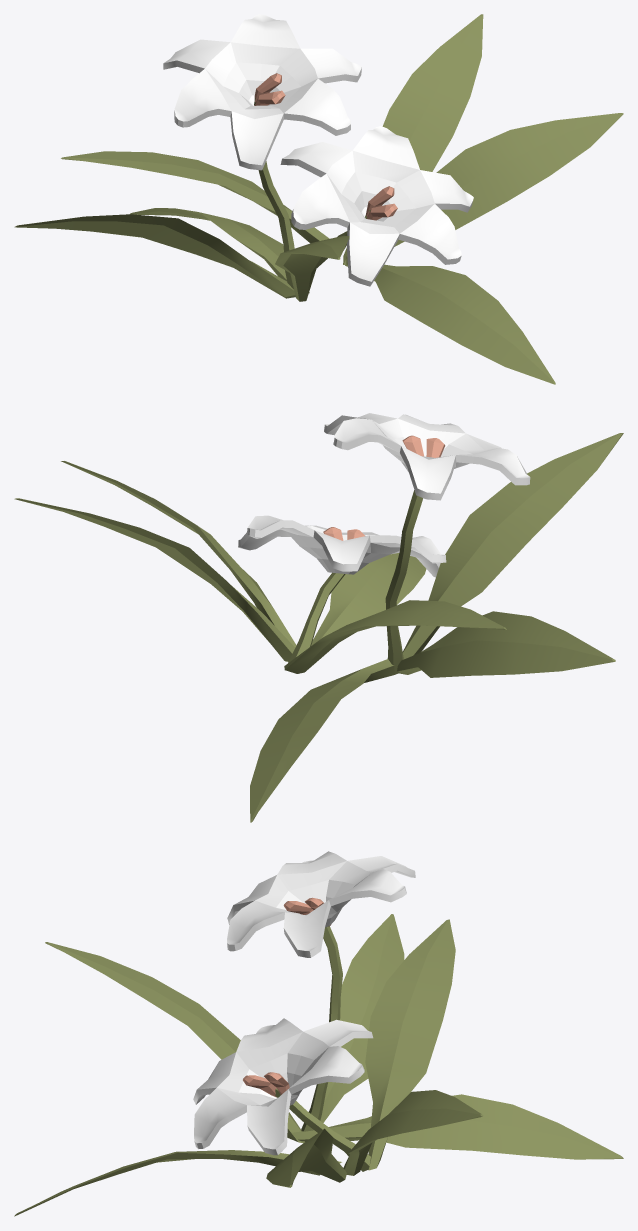
File: Lily.fbx
3 renders of one model, top to bottom at view 1: azimuth 30°, elevation 25°; view 2: azimuth 150°, elevation 25°; view 3: azimuth 270°, elevation 25°, orthographic. The views are drawn at different scales.
Visible parts, largest first — view 1: Lily1_group17_Stem19, LilyFlowerbase1, Lily1Pollen; view 2: Lily1_group17_Stem19, LilyFlowerbase1, Lily1Pollen; view 3: Lily1_group17_Stem19, LilyFlowerbase1, Lily1Pollen.
Part boxes in pixels (box(x1,y1,x2,y2)): Lily1_group17_Stem19: box(14, 14, 623, 384); LilyFlowerbase1: box(163, 14, 473, 286); Lily1Pollen: box(254, 73, 397, 220); Lily1_group17_Stem19: box(14, 433, 623, 822); LilyFlowerbase1: box(238, 413, 530, 577); Lily1Pollen: box(323, 435, 445, 540); Lily1_group17_Stem19: box(14, 914, 623, 1216); LilyFlowerbase1: box(193, 851, 415, 1155); Lily1Pollen: box(243, 897, 331, 1097).
Bounding box in the file's own units: 19.97 × 9.38 × 17.96.
